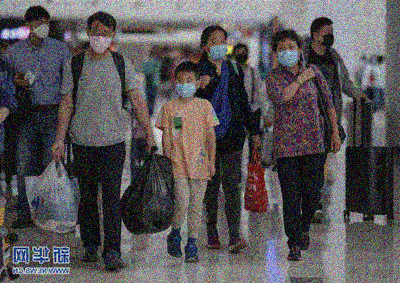with_mask: (88, 25, 111, 54), (276, 41, 299, 68), (207, 34, 227, 60), (175, 75, 196, 99), (32, 17, 50, 39), (318, 25, 334, 48), (233, 50, 248, 65)
